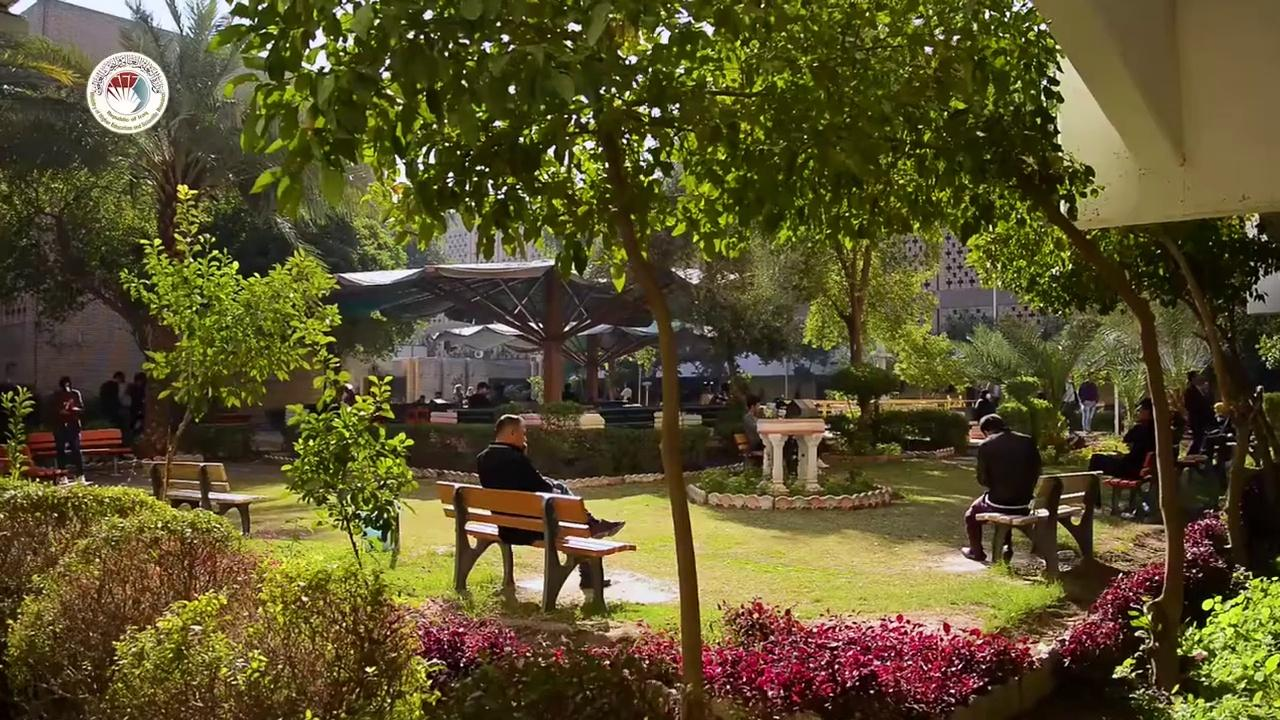fountain: (684, 396, 893, 511), (384, 349, 540, 413), (753, 396, 829, 490), (595, 381, 655, 425), (577, 409, 605, 429)
person: (475, 413, 625, 602), (961, 413, 1043, 562), (1083, 396, 1154, 511), (46, 375, 86, 480), (99, 370, 126, 427), (126, 371, 147, 437), (742, 394, 765, 453), (1078, 376, 1099, 432), (619, 381, 632, 403)
tree: (205, 0, 1081, 720), (654, 0, 1213, 686), (957, 145, 1205, 695), (143, 174, 339, 503), (1137, 212, 1278, 572), (116, 568, 426, 716), (684, 591, 998, 720), (788, 217, 942, 417), (279, 361, 419, 570), (690, 228, 799, 400), (994, 308, 1103, 453), (825, 361, 901, 419)
